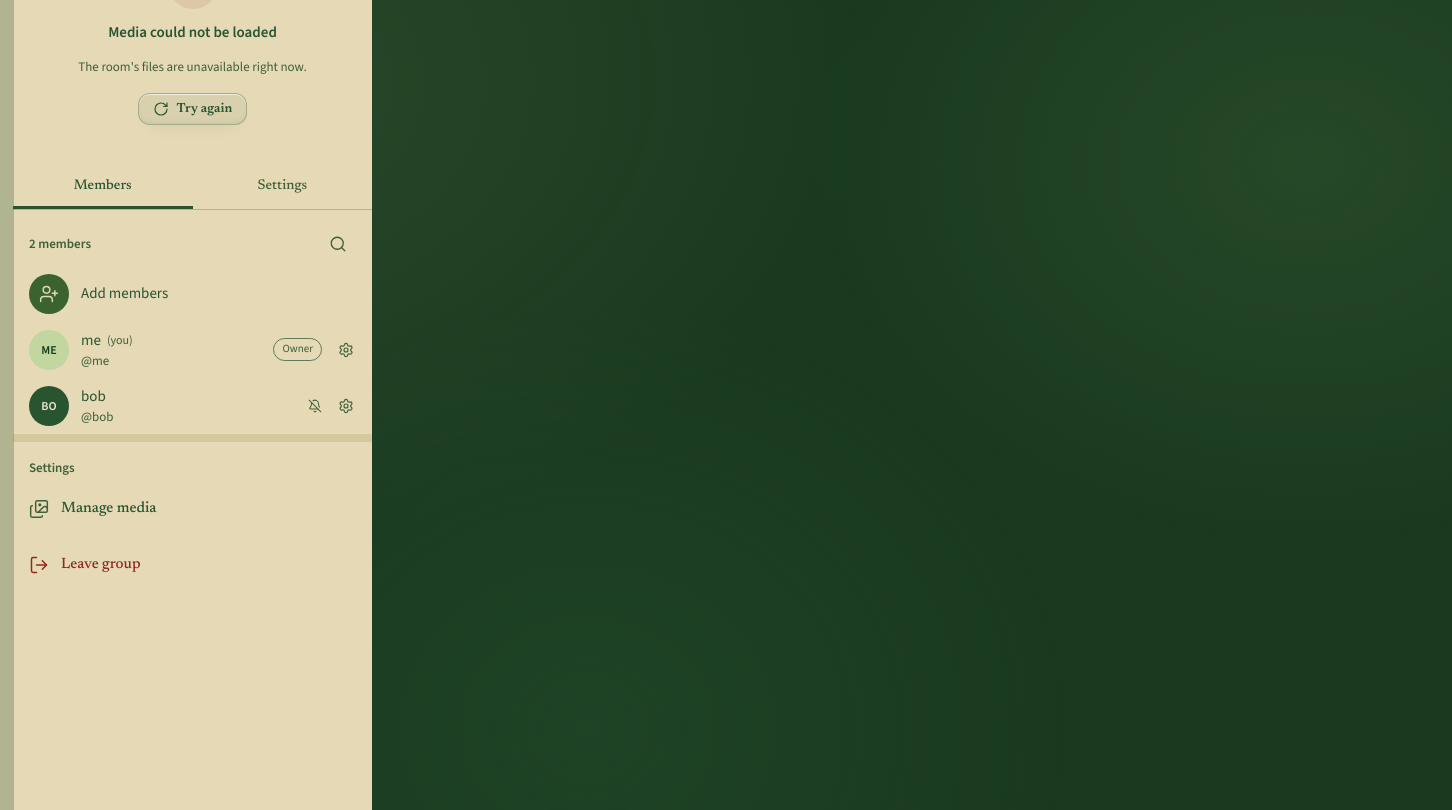
Test: GroupInfoPanel › offers the owner management and social items in one menu, danger last
(page scrolled)
Click the button named "Member options for bob" at [346, 406], box [328, 388, 364, 424]
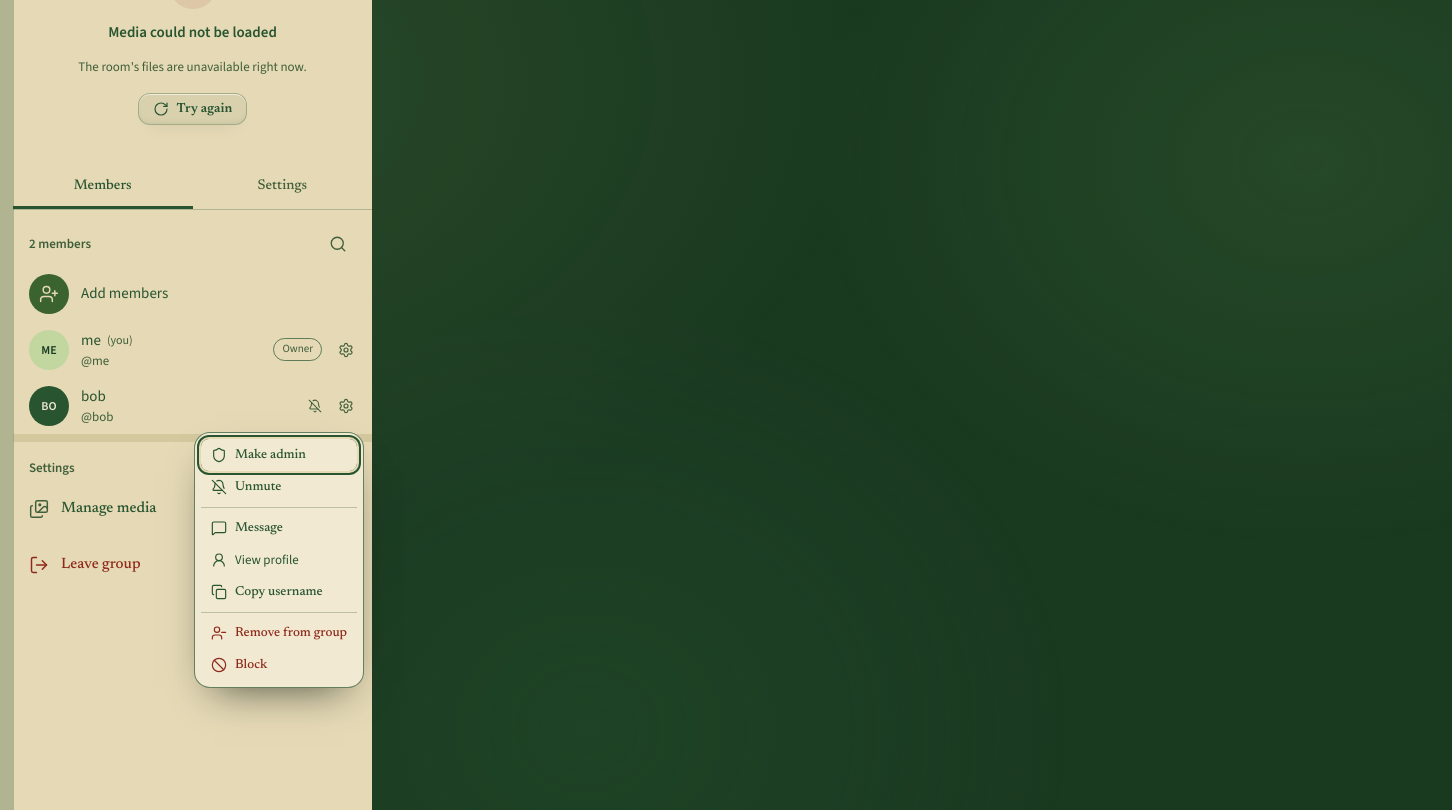
Press Arrowdown
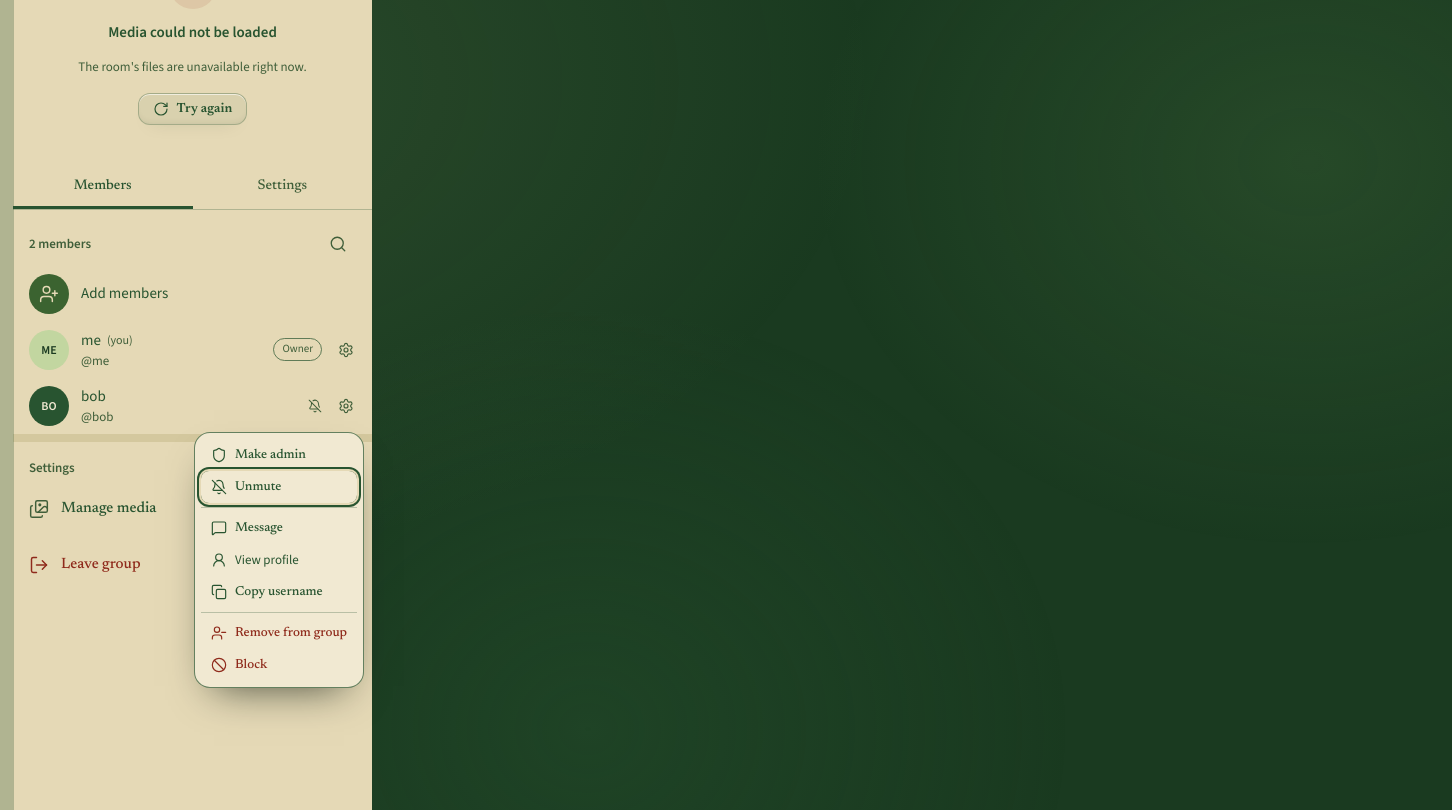
Press Escape
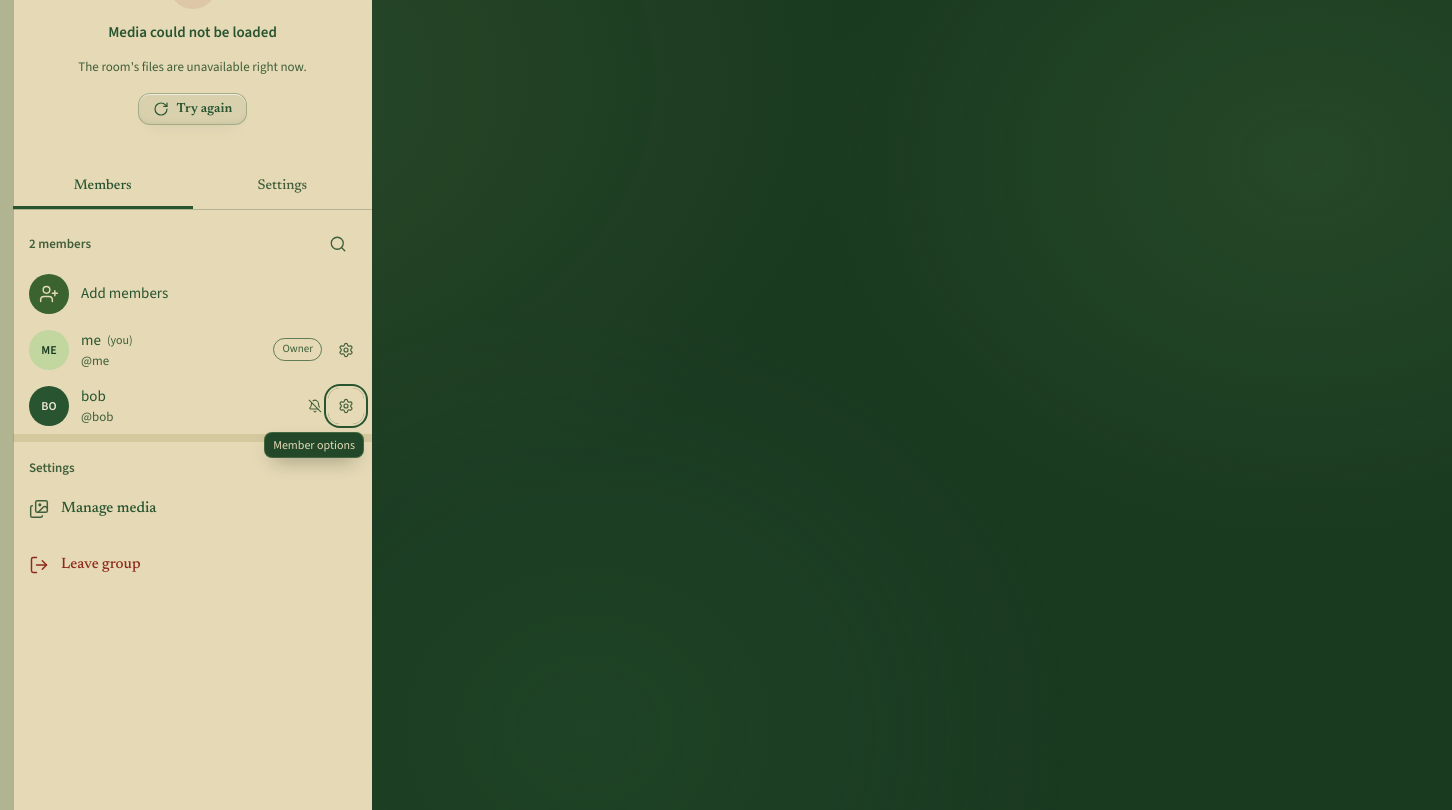
expect the menu is gone: met
